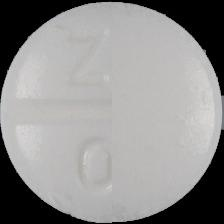10544-512: (0, 0, 224, 224)
